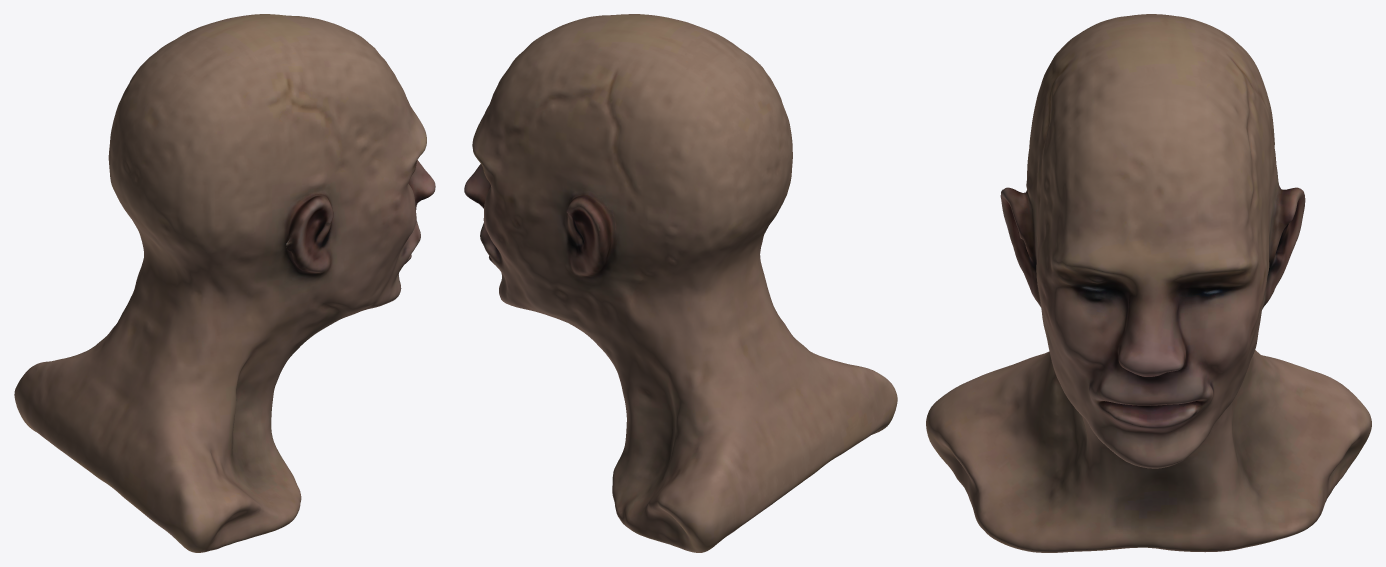
Rendered from dd860eb0f037_human_face_sculptur.fbx.
The picture shows the model from 3 angles, left to right: view 1: azimuth 30°, elevation 25°; view 2: azimuth 150°, elevation 25°; view 3: azimuth 270°, elevation 25°; orthographic projection. The views are drawn at different scales.
Visible parts, largest first — view 1: high_poly; view 2: high_poly; view 3: high_poly.
Part boxes in pixels (x1=…): high_poly: x1=14, y1=14, x2=435, y2=552; high_poly: x1=464, y1=14, x2=897, y2=552; high_poly: x1=926, y1=14, x2=1371, y2=552.
Bounding box in the file's own units: 80.39 × 100 × 76.88.
